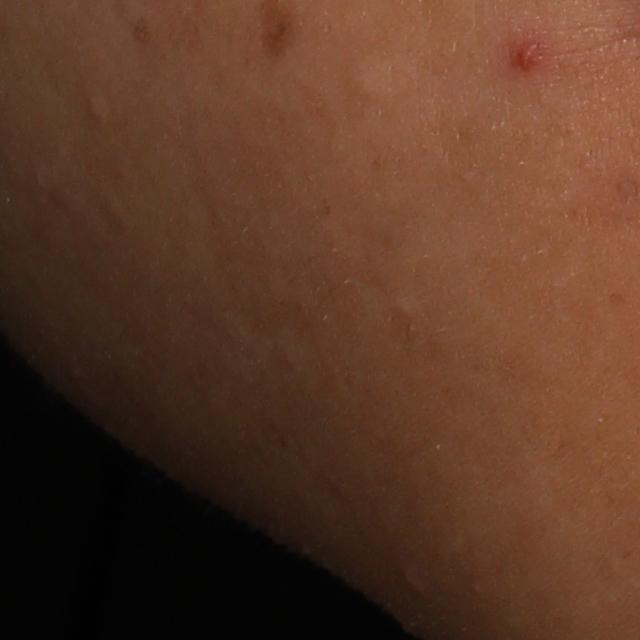comedo: (346, 62, 389, 103), (393, 295, 414, 317)
papule: (506, 22, 553, 80)
